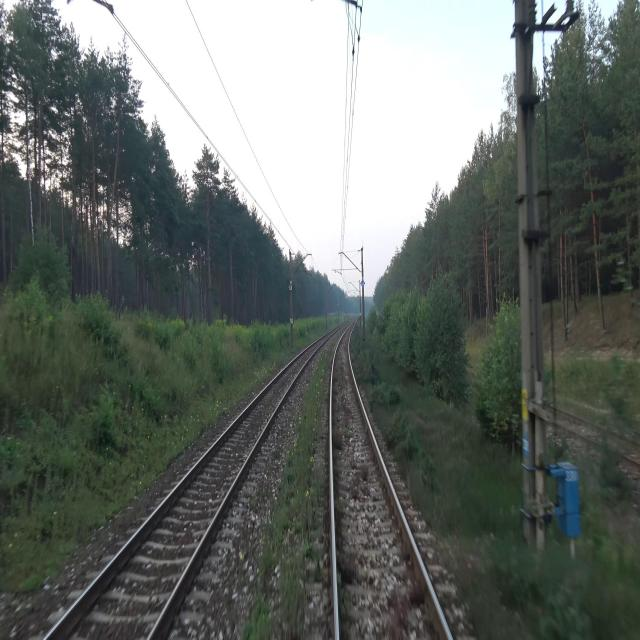rail-track: (48, 338, 323, 639), (332, 324, 447, 639)
